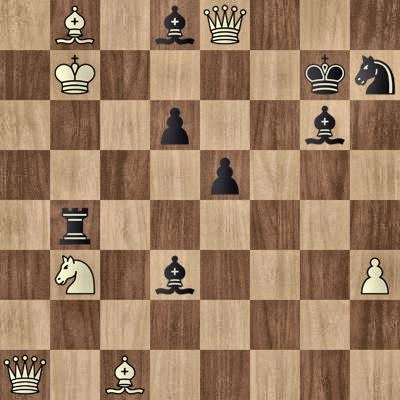black-bishop: (150, 0, 200, 50), (300, 100, 350, 150), (150, 250, 200, 300)
black-king: (300, 50, 350, 100)
black-knight: (350, 50, 400, 100)
black-pawn: (150, 100, 200, 150), (200, 150, 250, 200)
black-rook: (50, 200, 100, 250)
white-bishop: (50, 0, 100, 50), (100, 350, 150, 400)
white-king: (50, 50, 100, 100)
white-knight: (50, 250, 100, 300)
white-pawn: (350, 250, 400, 300)
white-queen: (200, 0, 250, 50), (0, 350, 50, 400)
